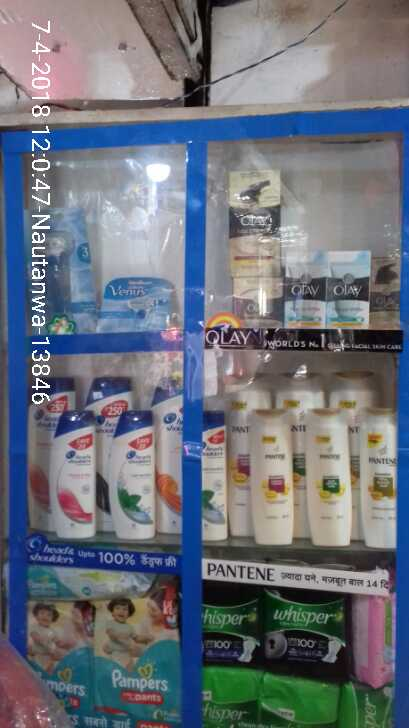venus: (45, 204, 89, 334), (98, 276, 169, 328)
